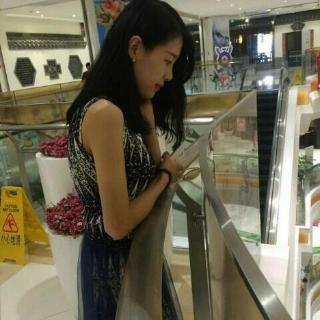vest: (68, 87, 182, 319)
